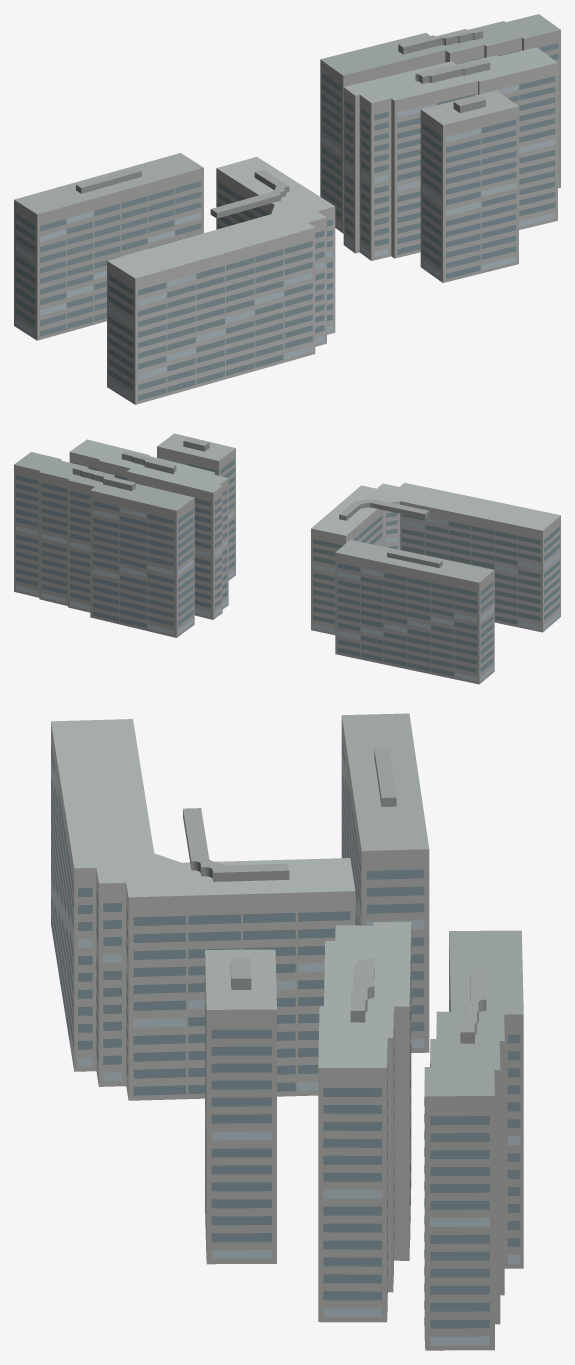
Rendered from apt-a13286203.glb.
The picture shows the model from 3 angles, top to bottom: view 1: azimuth 30°, elevation 25°; view 2: azimuth 150°, elevation 25°; view 3: azimuth 270°, elevation 25°; orthographic projection. The views are drawn at different scales.
Visible parts, largest first — view 1: apt-a13286203; view 2: apt-a13286203; view 3: apt-a13286203.
Part boxes in pixels (bbox=[...]): apt-a13286203: bbox=[14, 14, 560, 404]; apt-a13286203: bbox=[14, 433, 560, 684]; apt-a13286203: bbox=[51, 713, 523, 1350].
Bounding box in the file's own units: 167 × 47.81 × 77.14.
